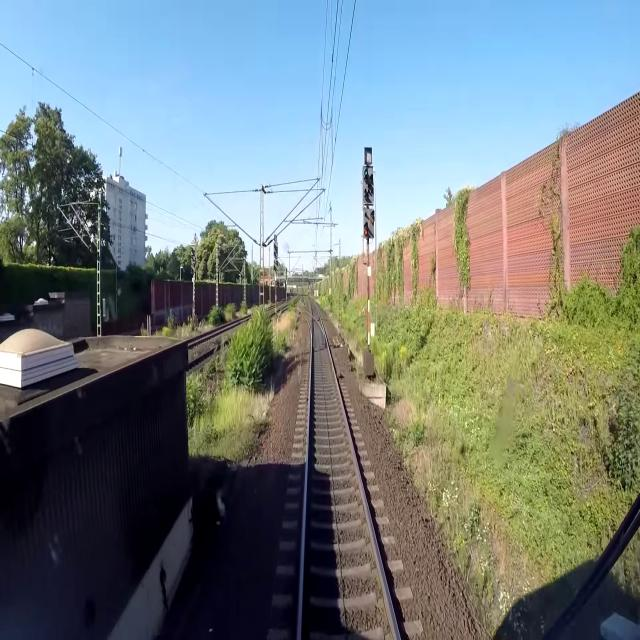rail-track: (302, 319, 395, 639), (186, 343, 228, 373), (311, 300, 320, 322), (300, 310, 310, 324)
